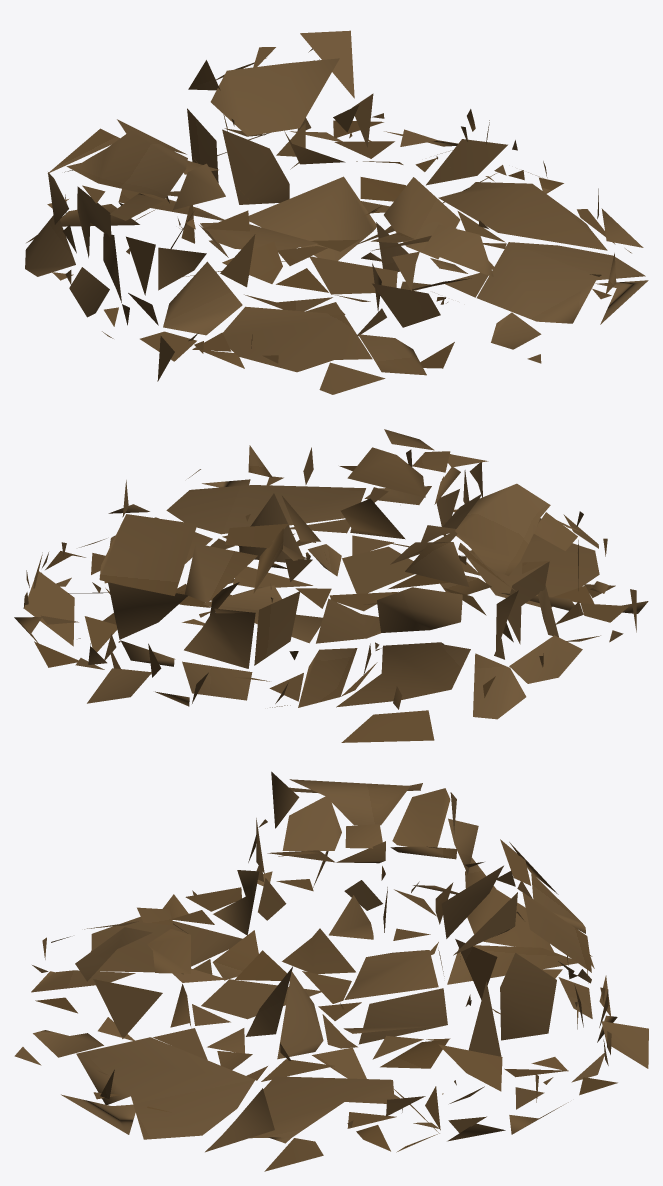
File: hamlet-far.glb
3 renders of one model, top to bottom at view 1: azimuth 30°, elevation 25°; view 2: azimuth 150°, elevation 25°; view 3: azimuth 270°, elevation 25°, orthographic. The views are drawn at different scales.
Visible parts, largest first — view 1: x-hamlet; view 2: x-hamlet; view 3: x-hamlet.
Part boxes in pixels (x1,y1,x2,y2): x-hamlet: (25, 30, 648, 394); x-hamlet: (14, 429, 648, 742); x-hamlet: (14, 771, 648, 1171).
Bounding box in the file's own units: 0.2585 × 0.0838 × 0.2569.
Materials: 1 (1 with a texture image).
